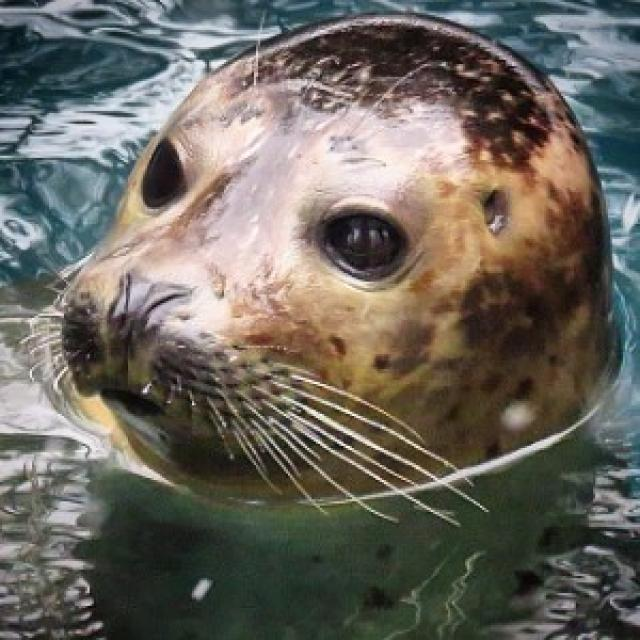Seal: (20, 0, 640, 553)
